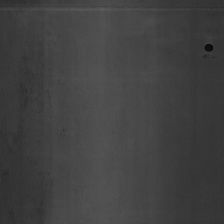punching_hole: (3, 33, 51, 150), (1, 2, 222, 15), (203, 40, 214, 53)
